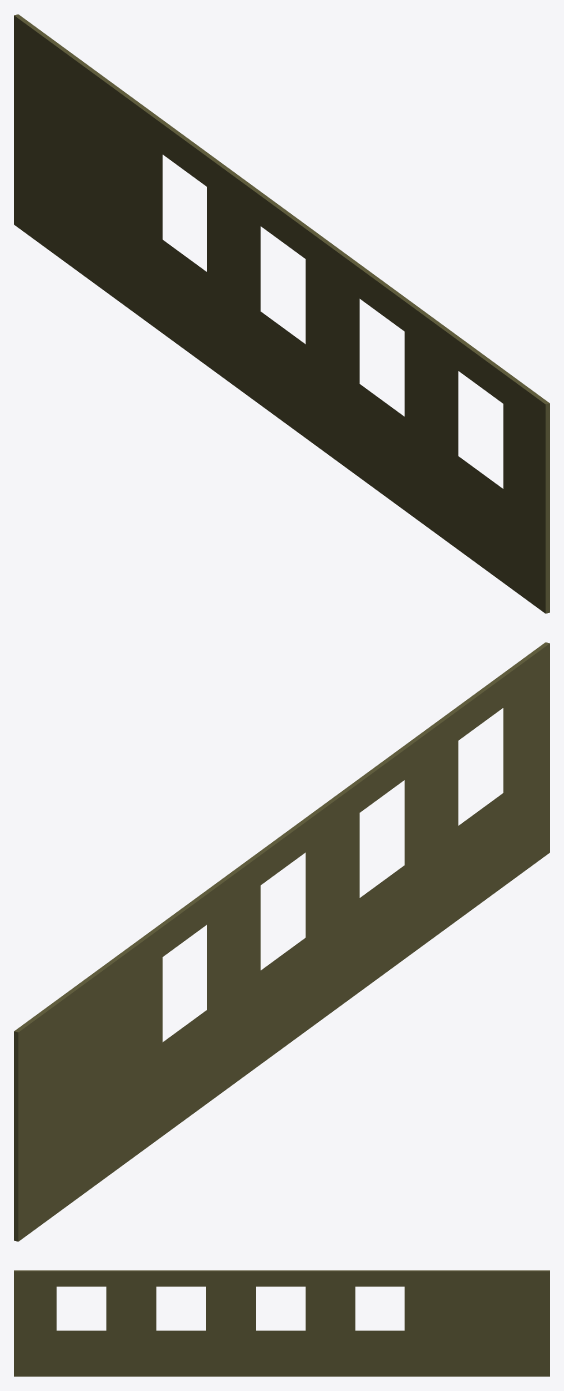
Rendered from Walls.fbx.
3 renders of one model, top to bottom at view 1: azimuth 30°, elevation 25°; view 2: azimuth 150°, elevation 25°; view 3: azimuth 270°, elevation 25°, orthographic. The views are drawn at different scales.
Parts seen in each view (by area): view 1: pCube125; view 2: pCube125; view 3: pCube125.
Part boxes in pixels (x1=…): pCube125: x1=14, y1=14, x2=549, y2=613; pCube125: x1=14, y1=642, x2=549, y2=1241; pCube125: x1=14, y1=1270, x2=549, y2=1376.
Bounding box in the file's own units: 15.49 × 702 × 3229.
1 material, 1 textured.
